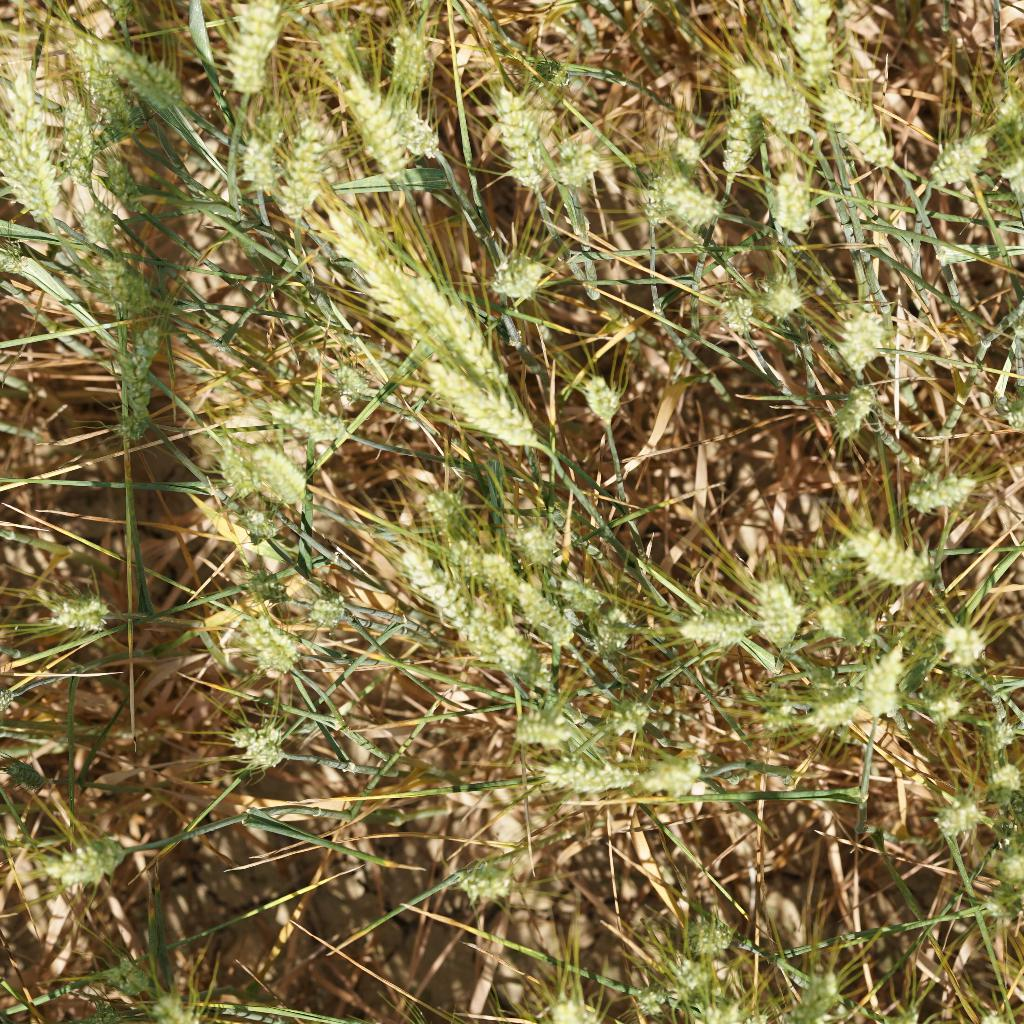0-0: (335, 205, 507, 385), (0, 40, 75, 216), (332, 53, 419, 189), (77, 34, 198, 127), (423, 365, 545, 449), (814, 71, 912, 174), (0, 116, 78, 237), (210, 0, 286, 119), (71, 243, 187, 316), (101, 314, 165, 444), (253, 387, 380, 452), (848, 522, 941, 598), (918, 112, 1002, 193), (277, 104, 335, 221), (725, 63, 811, 141), (32, 829, 134, 893), (90, 134, 165, 221), (393, 550, 470, 634), (67, 52, 148, 131), (492, 79, 549, 187), (748, 159, 819, 238), (367, 2, 429, 89), (708, 89, 764, 185), (238, 429, 310, 503), (681, 598, 769, 658), (382, 93, 456, 163), (629, 948, 705, 1015), (206, 430, 262, 518), (570, 583, 642, 651), (628, 746, 716, 801), (783, 0, 854, 68), (533, 757, 641, 800), (302, 17, 366, 88), (742, 576, 806, 646), (651, 172, 728, 230), (792, 682, 878, 733), (900, 468, 986, 518), (571, 362, 636, 425), (821, 301, 884, 366), (417, 468, 478, 535), (931, 613, 1008, 666), (792, 956, 852, 1024), (496, 509, 576, 559), (825, 376, 886, 441), (223, 716, 292, 772), (802, 591, 862, 653), (867, 634, 911, 718), (444, 855, 519, 903), (231, 135, 288, 198), (451, 541, 522, 591), (243, 612, 299, 675), (488, 245, 549, 302), (707, 280, 773, 332), (631, 165, 676, 241), (929, 784, 982, 848), (43, 594, 126, 634), (511, 590, 574, 642), (686, 899, 736, 963), (594, 690, 650, 747), (645, 105, 703, 160), (230, 561, 295, 610), (550, 135, 602, 194), (549, 978, 615, 1024), (986, 374, 1024, 453), (490, 635, 552, 683), (971, 753, 1024, 808), (141, 972, 197, 1024), (105, 947, 157, 1002), (286, 589, 359, 628), (513, 53, 576, 97), (511, 706, 575, 748), (754, 268, 810, 314), (72, 201, 121, 252), (904, 687, 967, 724), (975, 138, 1024, 185), (230, 503, 283, 546), (324, 358, 372, 405), (754, 694, 801, 741), (974, 721, 1020, 758), (991, 845, 1024, 889)
